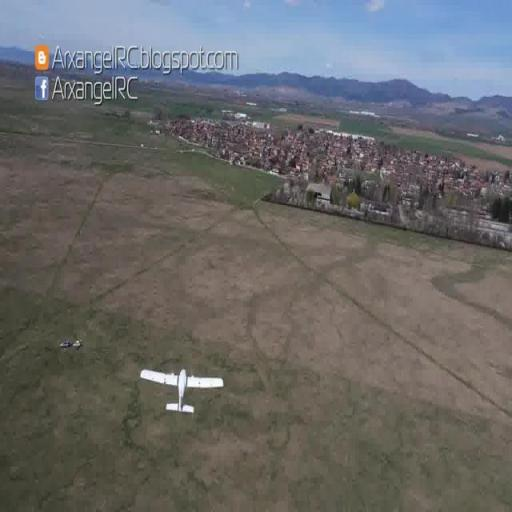uav: (138, 364, 228, 420)
